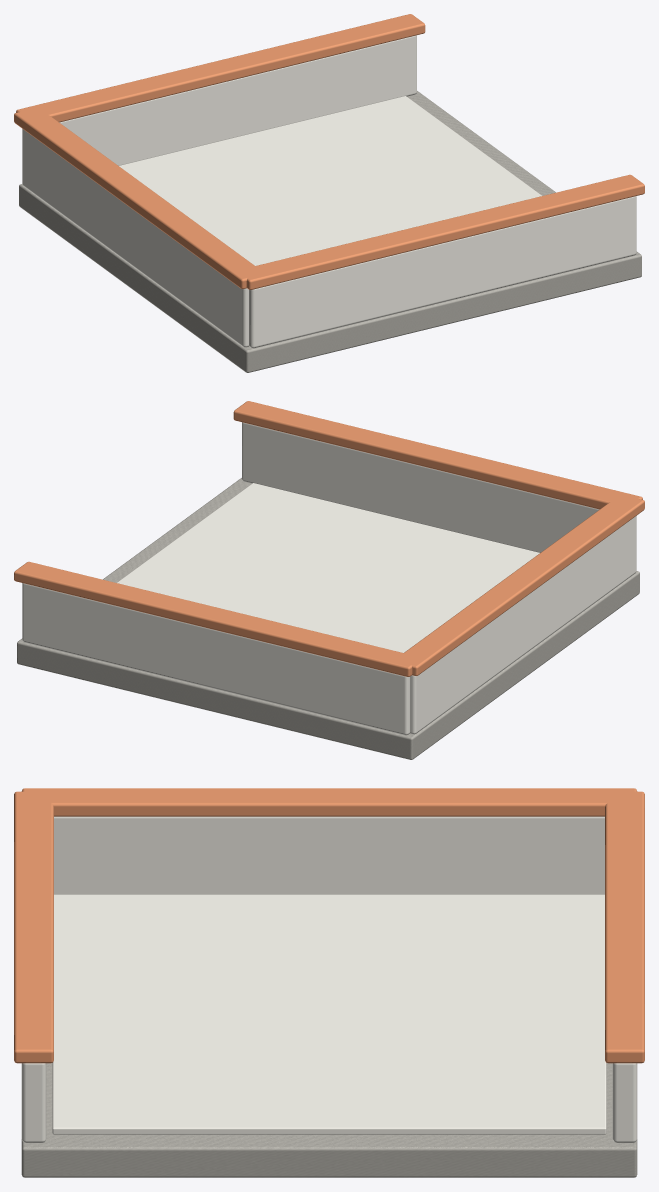
File: hero-shooter-harbour-payload-rooftop-terrace-railed-f009718a__27699.glb
The picture shows the model from 3 angles, top to bottom: view 1: azimuth 30°, elevation 25°; view 2: azimuth 150°, elevation 25°; view 3: azimuth 270°, elevation 25°; orthographic projection. The views are drawn at different scales.
Parts seen in each view (by area): view 1: rooftop-terrace-railed; view 2: rooftop-terrace-railed; view 3: rooftop-terrace-railed.
Boxes of the visible parts, x1,y1,x2,y2 form: rooftop-terrace-railed: [14, 14, 644, 372]; rooftop-terrace-railed: [14, 401, 644, 759]; rooftop-terrace-railed: [14, 788, 644, 1177].
Size of the model in its own units: 4.05 by 0.9202 by 4.1.
Materials: 3 (1 with a texture image).
